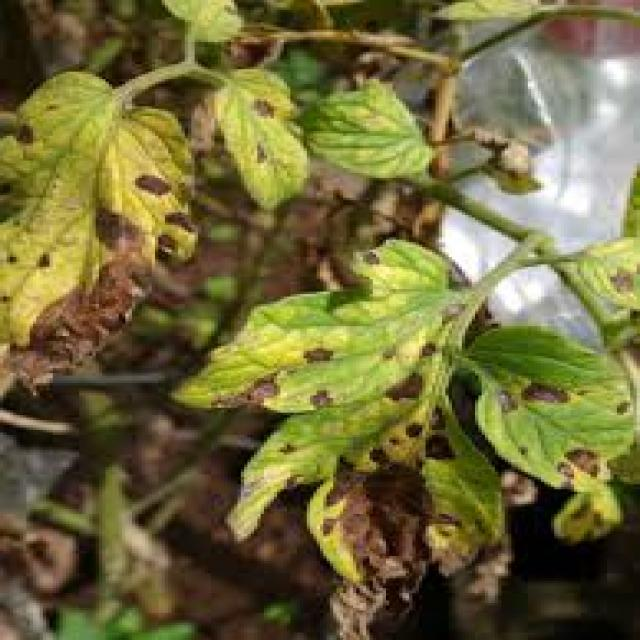bercak_daun: (167, 275, 444, 420), (468, 326, 638, 491)
